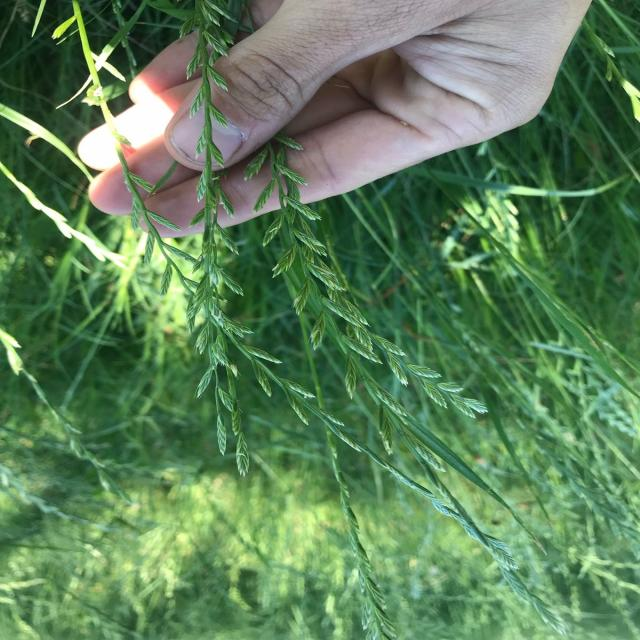Lolium: (276, 213, 568, 630), (254, 137, 490, 415), (276, 226, 398, 632), (187, 0, 248, 450), (25, 371, 199, 493), (512, 425, 640, 551), (0, 467, 141, 541)
